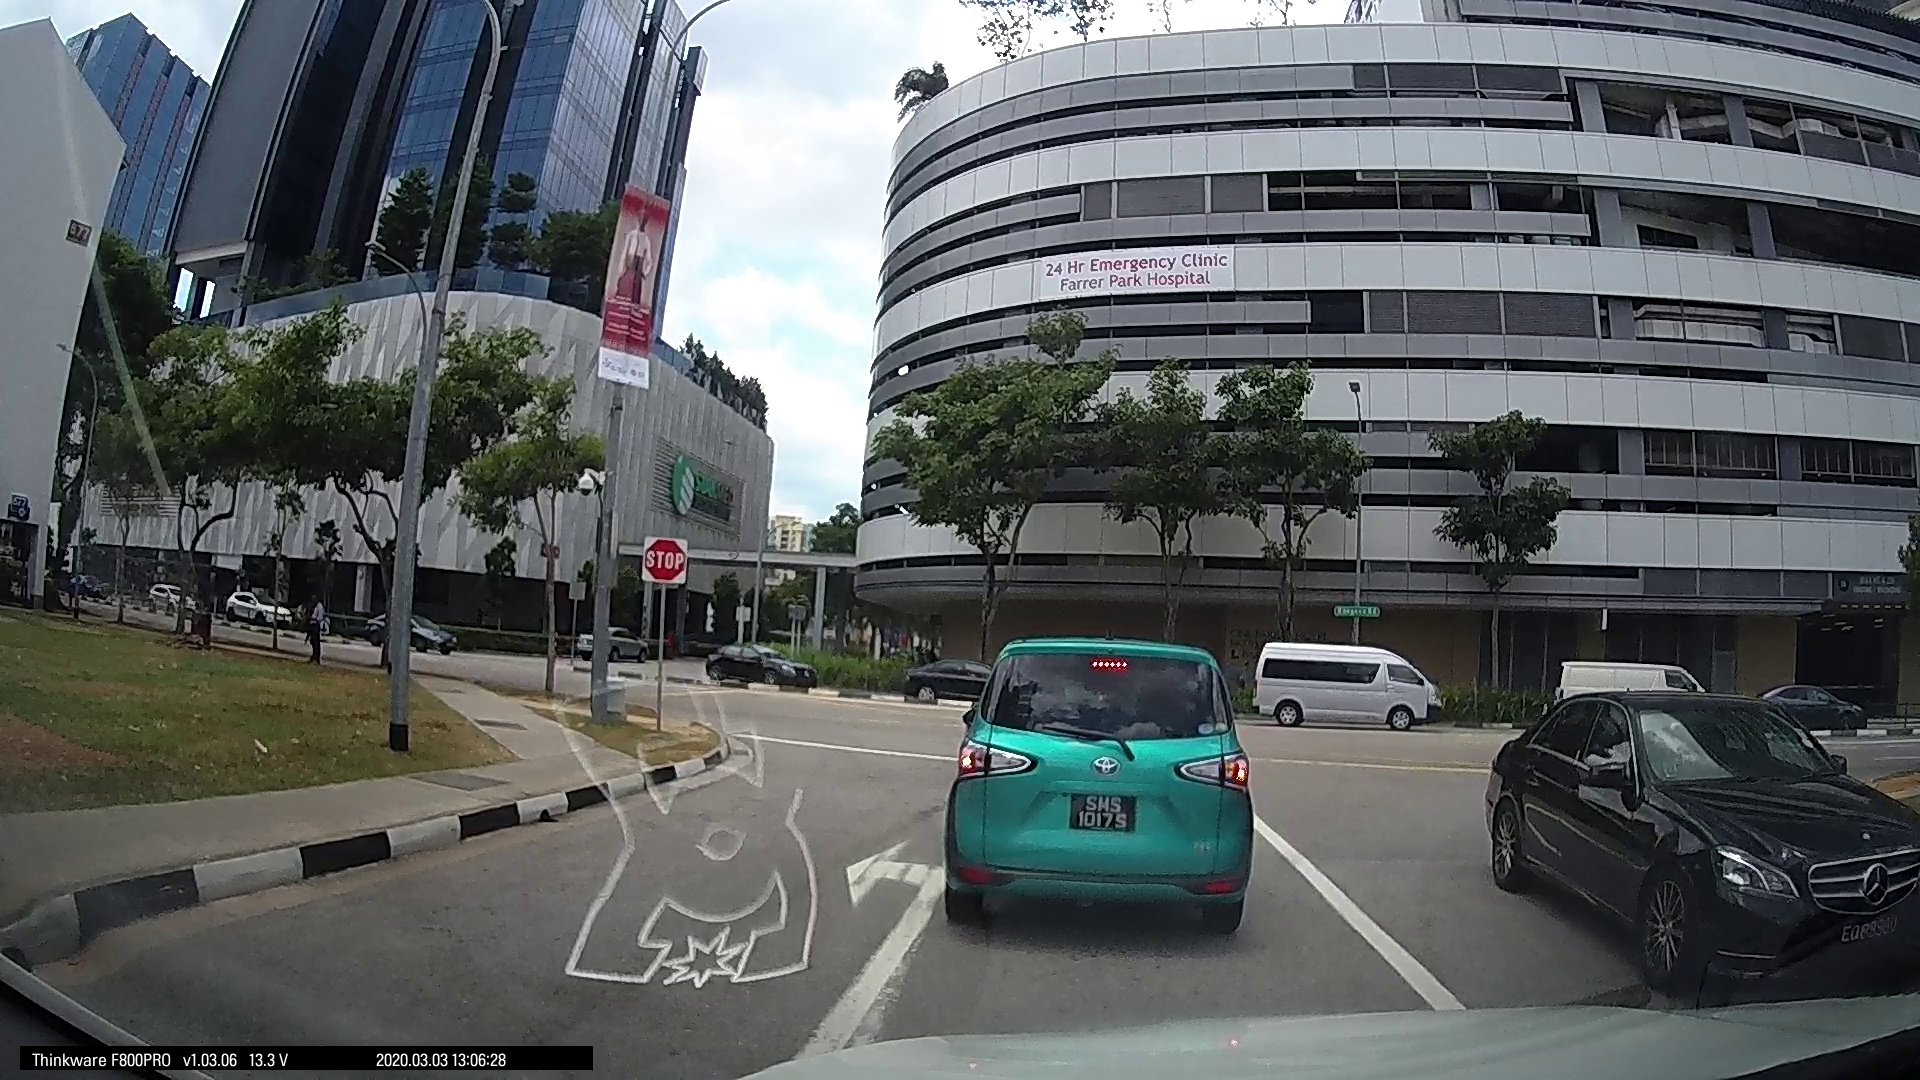Light Vehicle: (1469, 683, 1919, 990), (935, 616, 1257, 938), (1251, 640, 1443, 733), (1760, 678, 1866, 738), (702, 638, 814, 688)
